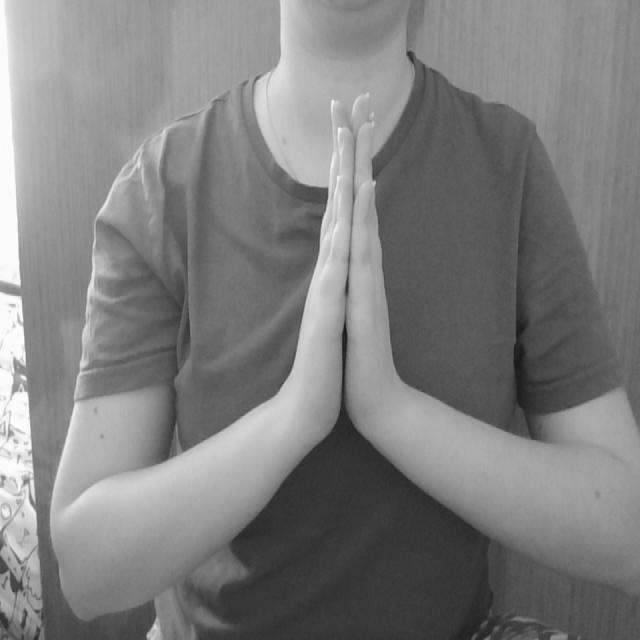Ozur-Dilemek: (282, 74, 406, 489)
